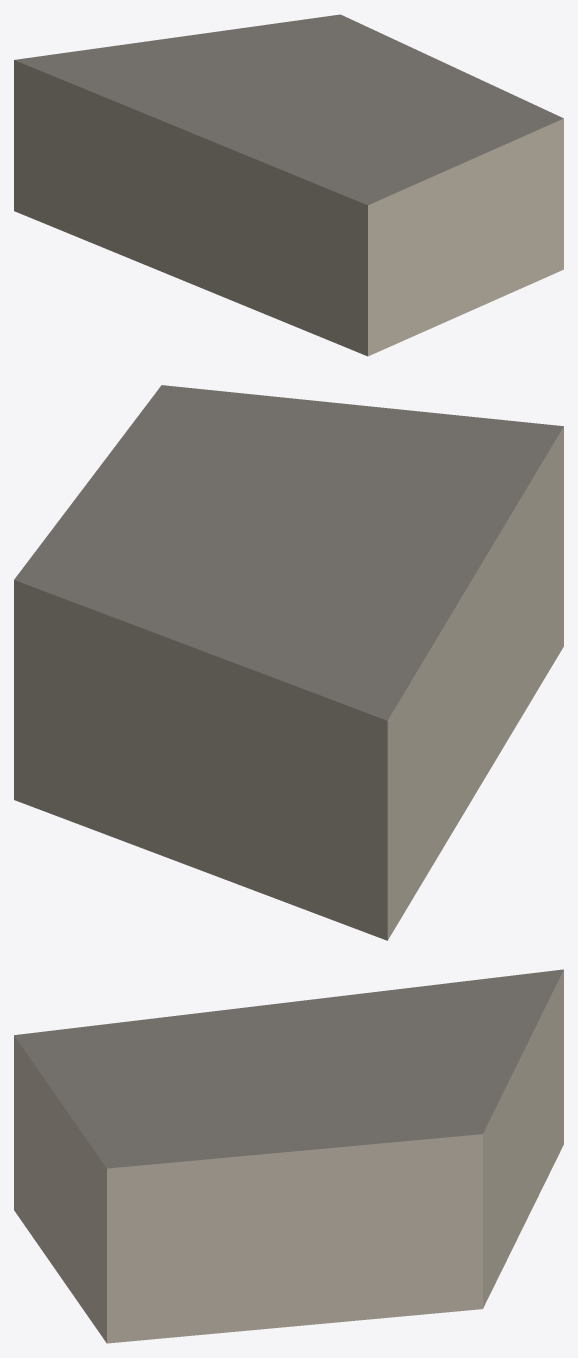
3 views of the same model, one above another, from view 1: azimuth 30°, elevation 25°; view 2: azimuth 150°, elevation 25°; view 3: azimuth 270°, elevation 25° (orthographic). The views are drawn at different scales.
Visible parts, largest first — view 1: HP-w1197021312; view 2: HP-w1197021312; view 3: HP-w1197021312.
Boxes of the visible parts, x1,y1,x2,y2 form: HP-w1197021312: [14, 14, 563, 356]; HP-w1197021312: [14, 385, 563, 940]; HP-w1197021312: [14, 969, 563, 1343].
Size of the model in its own units: 43.95 by 18 by 51.28.
